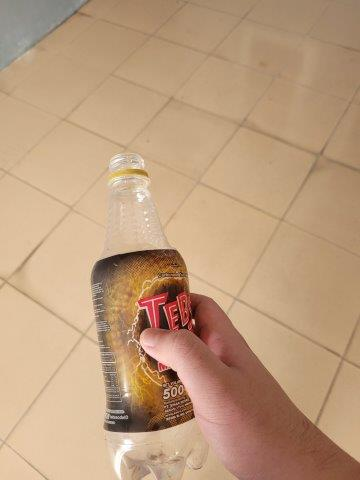botolplastik: (89, 156, 210, 476)
